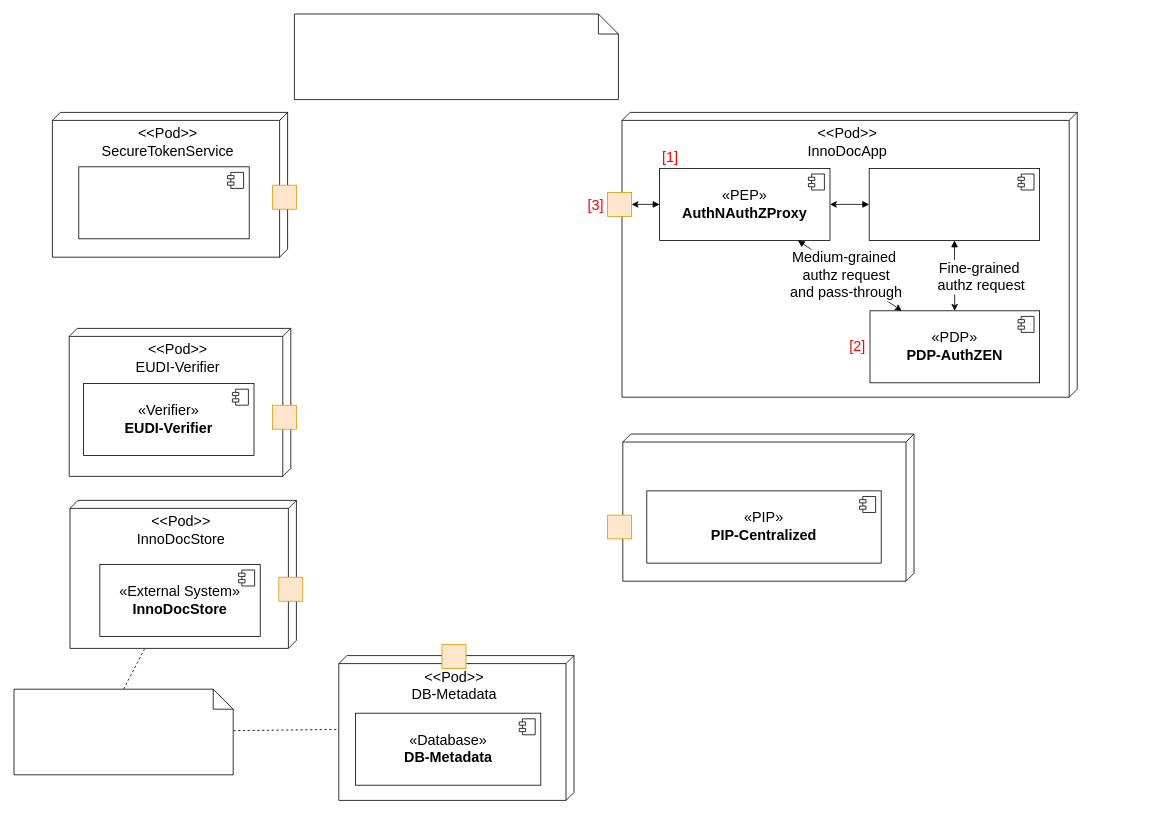
Some shapes in this 1154 by 814 pixel diagram are drawn without their labels. The shapes that lost their labels are listed below. From the top down, each one's box as (x1, y1, x2, y2) in pixels, then its label:
(294, 13, 618, 100): All pods incorporate AuthNAuthZProxyand and PDP-AuthZEN
(78, 166, 249, 239): «STS» SecureTokenService
(868, 168, 1040, 240): «Application» InnoDocAppV1.0
(622, 433, 914, 581): <<Pod>> PIP-Centralized
(13, 688, 233, 775): Potentially externally managed persistent storage kubernetes resources
